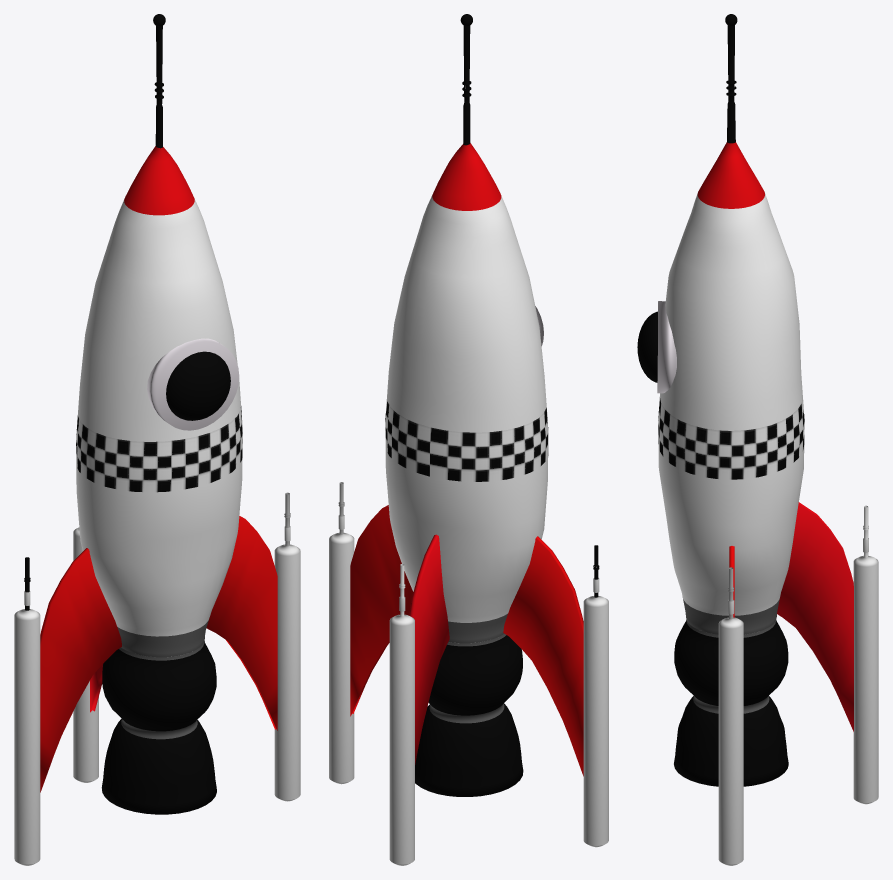
File: rocket.glb
3 renders of one model, left to right at view 1: azimuth 30°, elevation 25°; view 2: azimuth 150°, elevation 25°; view 3: azimuth 270°, elevation 25°, orthographic. The views are drawn at different scales.
Visible parts, largest first — view 1: Cylinder_3, Plane_11, Sphere.003_10, Sphere.001_5, Plane.001_12, Cylinder.001_6, Cylinder.002_7, Sphere.002_9, Cylinder.003_8, Cylinder.004_14; view 2: Cylinder_3, Plane_11, Sphere.003_10, Plane.001_12, Cylinder.001_6, Cylinder.004_14, Sphere.001_5, Cylinder.002_7, Plane.002_13; view 3: Cylinder_3, Plane.002_13, Cylinder.002_7, Cylinder.004_14, Sphere.003_10, Sphere.001_5, Cylinder.003_8, Sphere.002_9.
Part boxes in pixels (box(x1,y1,x2,y2)): Cylinder_3: box(76, 26, 242, 657); Plane_11: box(40, 548, 121, 792); Sphere.003_10: box(101, 718, 216, 814); Sphere.001_5: box(102, 640, 216, 739); Plane.001_12: box(206, 516, 277, 730); Cylinder.001_6: box(14, 557, 40, 865); Cylinder.002_7: box(274, 492, 300, 801); Sphere.002_9: box(166, 351, 230, 420); Cylinder.003_8: box(147, 338, 239, 430); Cylinder.004_14: box(73, 527, 98, 782); Cylinder_3: box(385, 25, 548, 643); Plane_11: box(503, 536, 583, 776); Sphere.003_10: box(415, 703, 523, 796); Plane.001_12: box(350, 505, 413, 716); Cylinder.001_6: box(583, 545, 608, 847); Cylinder.004_14: box(389, 564, 414, 865); Sphere.001_5: box(428, 634, 522, 723); Cylinder.002_7: box(329, 482, 354, 784); Plane.002_13: box(409, 534, 449, 764); Cylinder_3: box(658, 25, 804, 634); Plane.002_13: box(777, 502, 853, 731); Cylinder.002_7: box(718, 567, 743, 865); Cylinder.004_14: box(853, 505, 878, 804); Sphere.003_10: box(674, 696, 788, 786); Sphere.001_5: box(674, 619, 788, 713); Cylinder.003_8: box(657, 301, 676, 393); Sphere.002_9: box(637, 311, 657, 382).
Bounding box in the file's own units: 2.15 × 5.94 × 1.64.
Materials: 19 (2 with a texture image).
